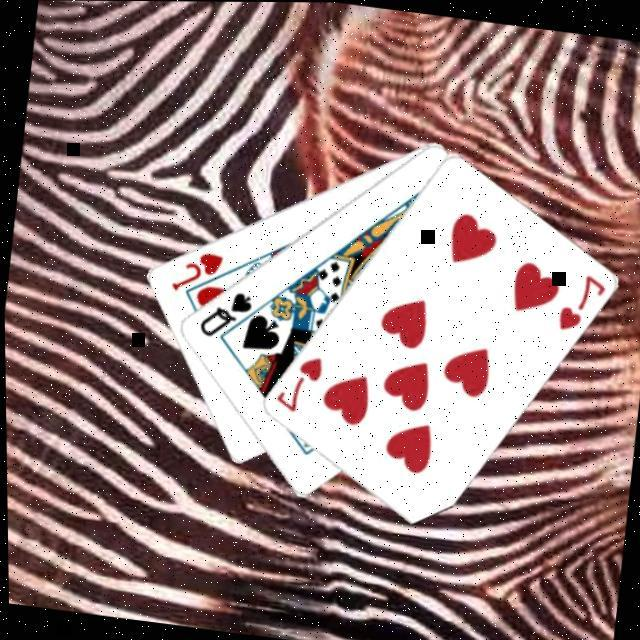7H: (548, 265, 608, 336), (266, 347, 324, 417)
JH: (162, 243, 224, 298)
QS: (190, 283, 253, 343)
